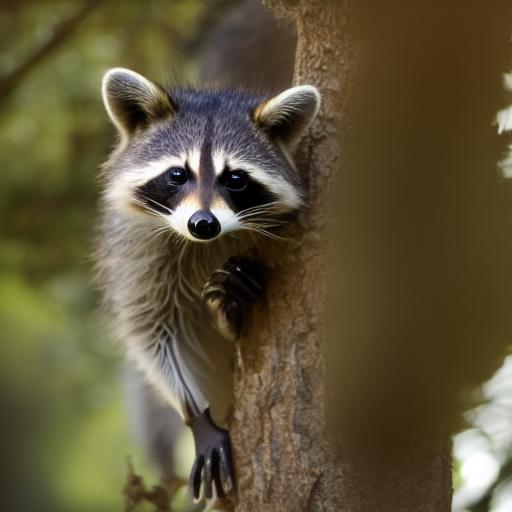raccoon: (81, 59, 330, 415)
